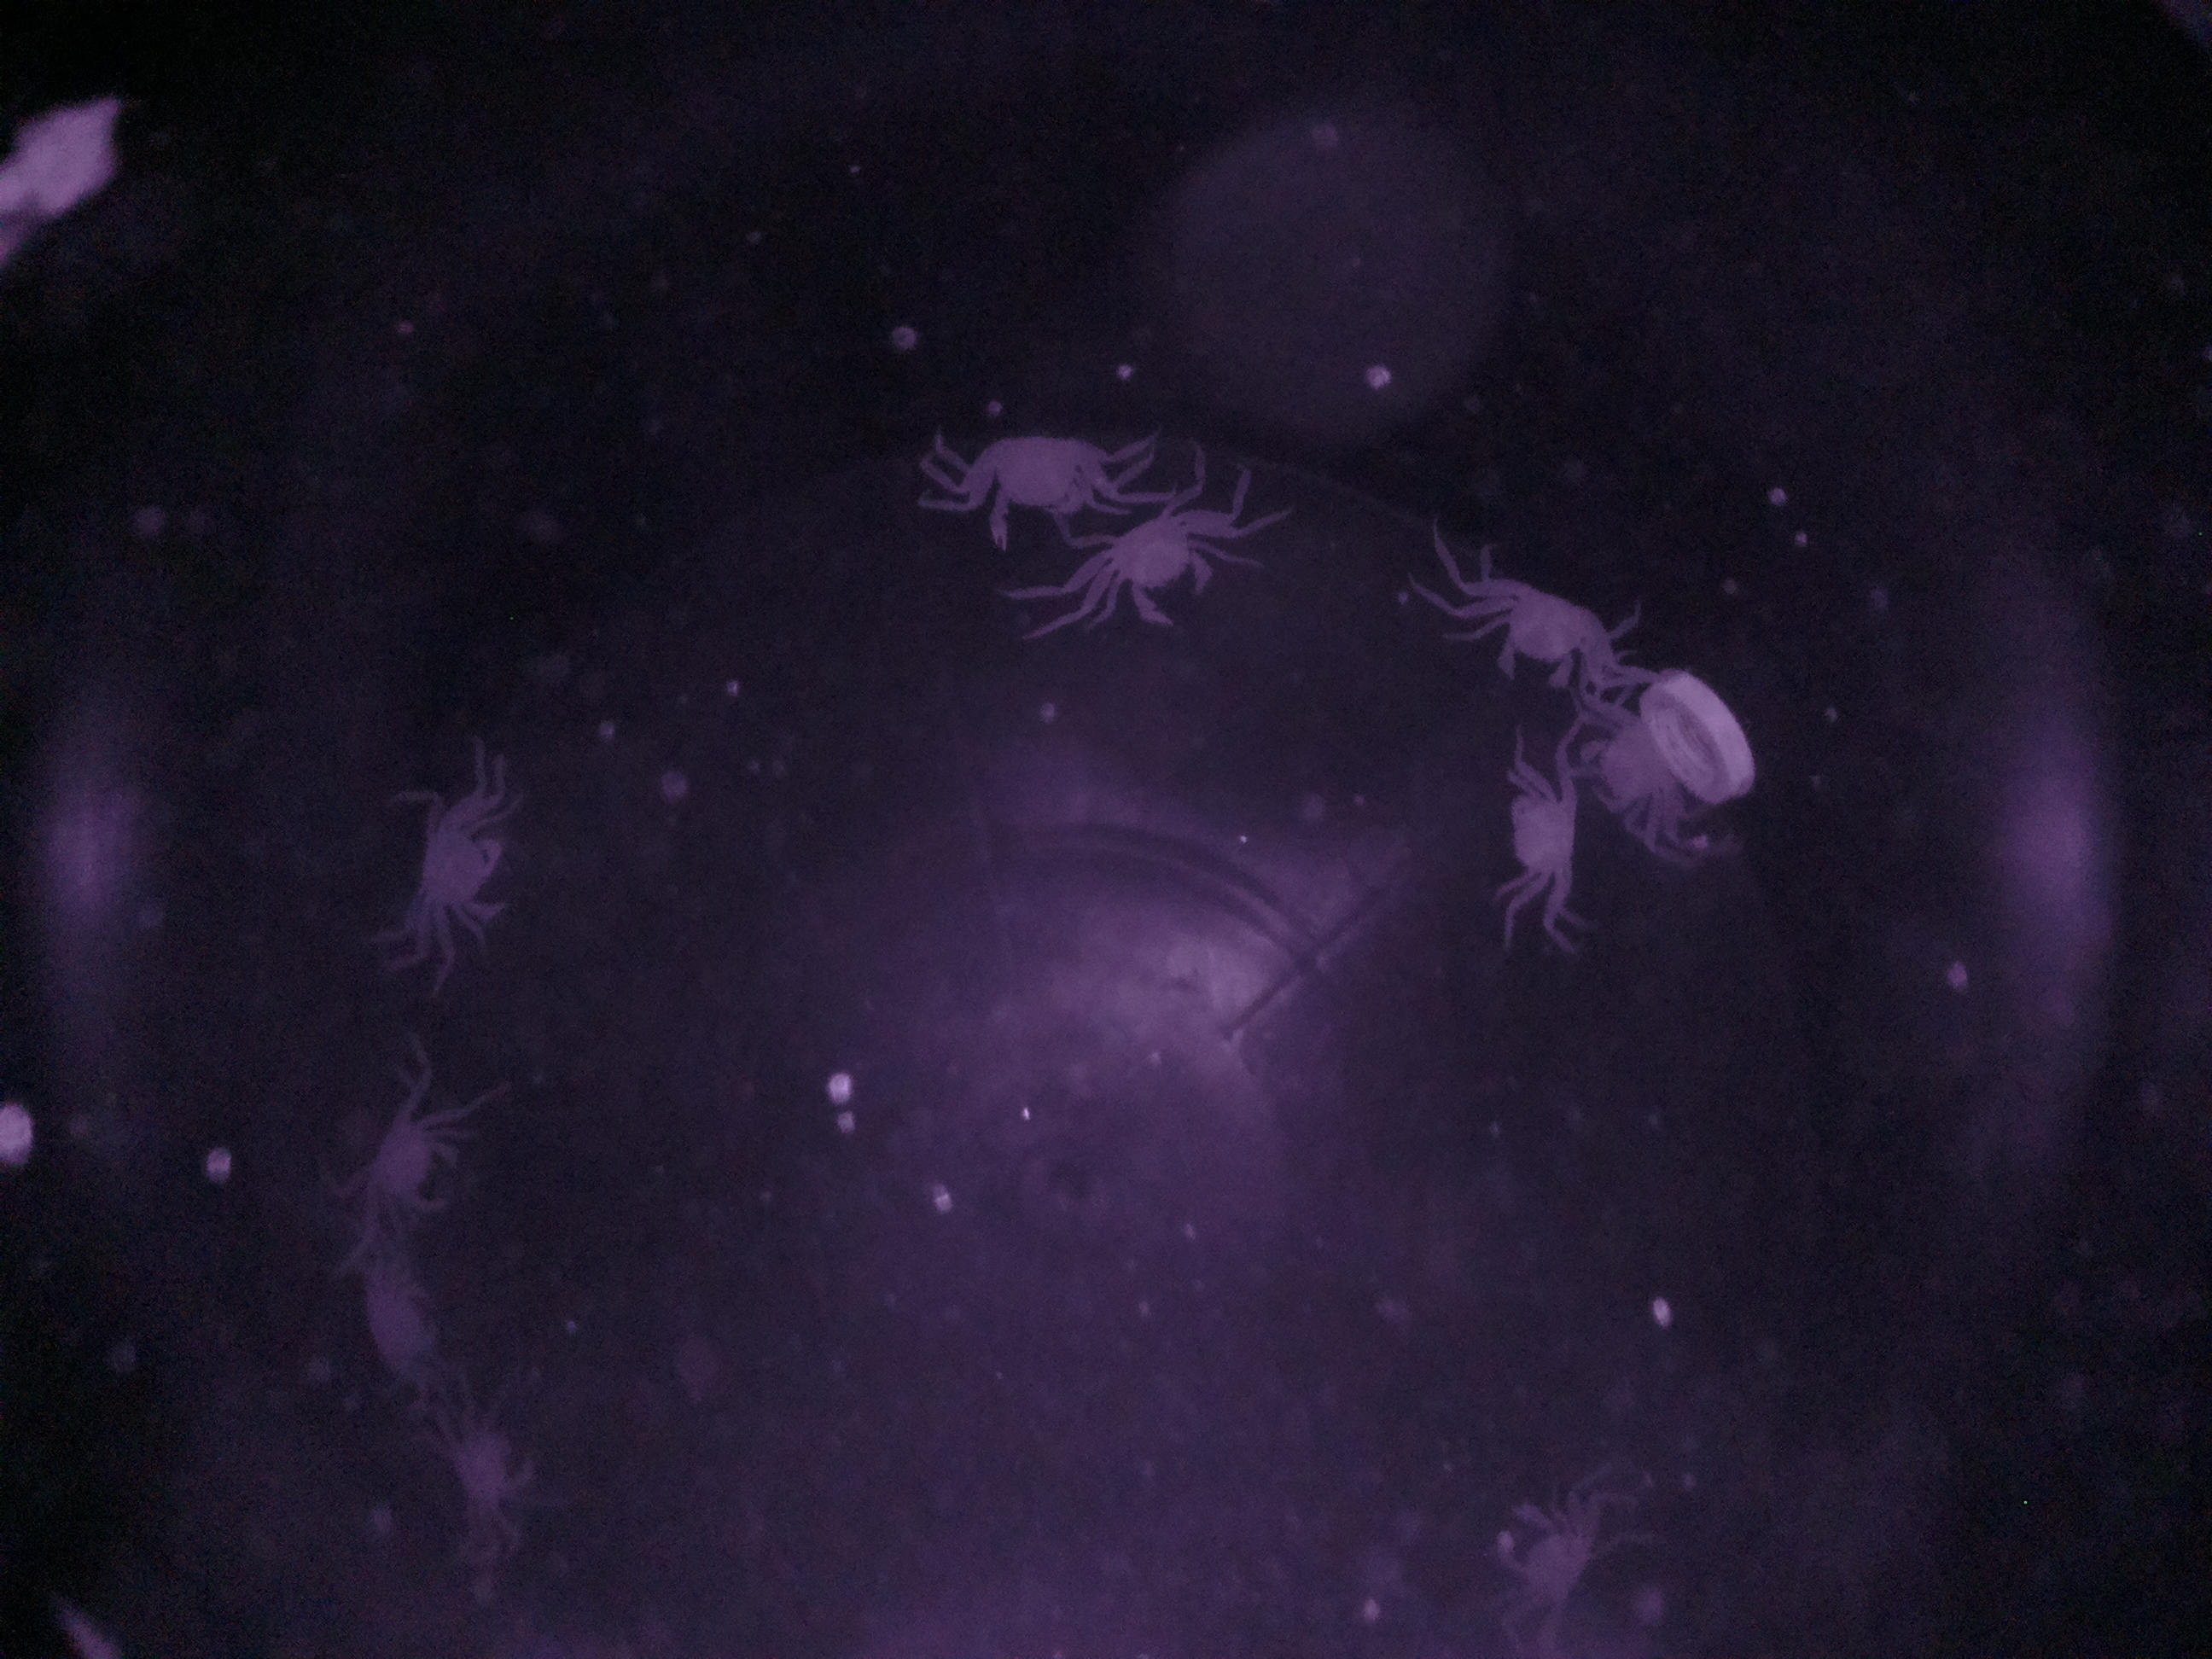Crab: (381, 741, 538, 953), (951, 387, 1127, 547), (1447, 558, 1641, 702), (312, 1079, 481, 1223), (1083, 493, 1233, 645), (425, 1387, 575, 1539), (1484, 741, 1602, 922)
